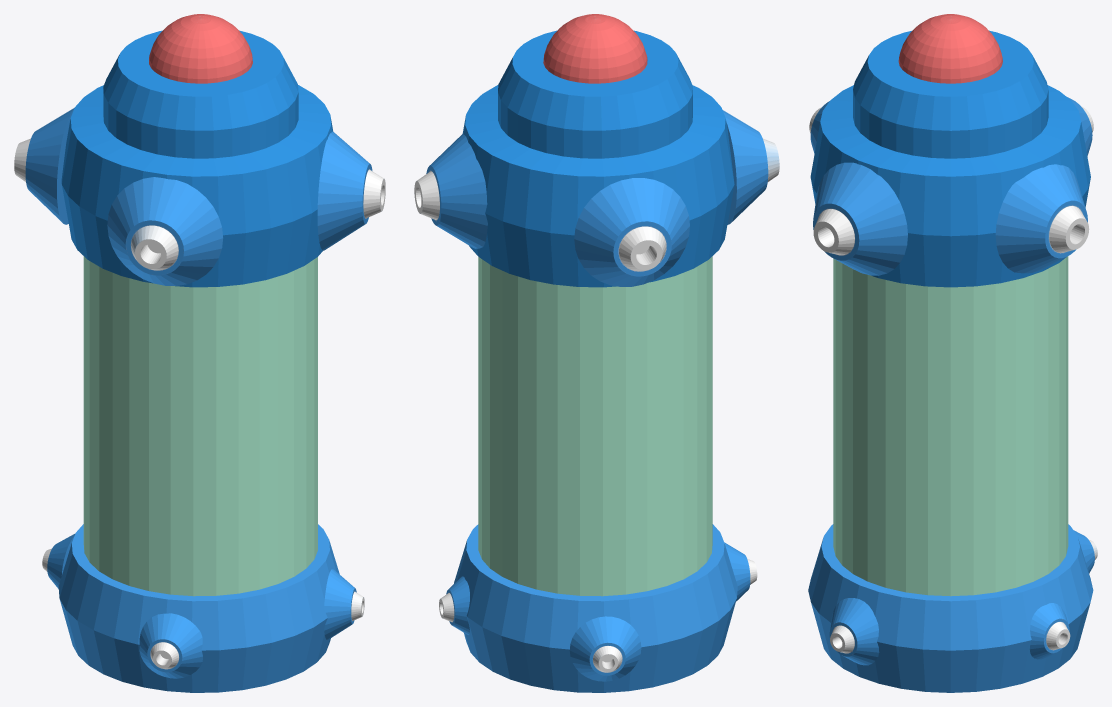
File: Itembox.fbx
3 views of the same model, side by side, from view 1: azimuth 30°, elevation 25°; view 2: azimuth 150°, elevation 25°; view 3: azimuth 270°, elevation 25° (orthographic).
Visible parts, largest first — view 1: Cylinder, Topo, Base, Destalhe 3, Sphere, Destalhe 2, Destalhe 4, Destalhe 3.001, Destalhe 2.001, Destalhe 4.001; view 2: Cylinder, Topo, Base, Destalhe 4, Sphere, Destalhe 1, Destalhe 4.001, Destalhe 3, Destalhe 1.001, Destalhe 3.001; view 3: Cylinder, Topo, Base, Destalhe 2, Destalhe 1, Sphere, Destalhe 2.001, Destalhe 1.001, Destalhe 4, Destalhe 4.001.
Boxes of the visible parts, x1=… form: Cylinder: x1=83, y1=256, x2=317, y2=596; Topo: x1=61, y1=30, x2=333, y2=287; Base: x1=58, y1=524, x2=339, y2=692; Destalhe 3: x1=107, y1=177, x2=223, y2=285; Sphere: x1=149, y1=14, x2=252, y2=83; Destalhe 2: x1=317, y1=131, x2=385, y2=250; Destalhe 4: x1=14, y1=108, x2=74, y2=224; Destalhe 3.001: x1=139, y1=613, x2=202, y2=678; Destalhe 2.001: x1=324, y1=569, x2=364, y2=640; Destalhe 4.001: x1=42, y1=533, x2=75, y2=588; Cylinder: x1=478, y1=256, x2=712, y2=596; Topo: x1=462, y1=30, x2=734, y2=287; Base: x1=454, y1=524, x2=737, y2=692; Destalhe 4: x1=574, y1=178, x2=689, y2=286; Sphere: x1=543, y1=14, x2=647, y2=83; Destalhe 1: x1=414, y1=133, x2=487, y2=248; Destalhe 4.001: x1=569, y1=616, x2=641, y2=681; Destalhe 3: x1=722, y1=110, x2=779, y2=224; Destalhe 1.001: x1=439, y1=576, x2=469, y2=634; Destalhe 3.001: x1=724, y1=542, x2=757, y2=601; Cylinder: x1=833, y1=256, x2=1068, y2=596; Topo: x1=810, y1=30, x2=1090, y2=287; Base: x1=808, y1=524, x2=1093, y2=692; Destalhe 2: x1=813, y1=162, x2=907, y2=275; Destalhe 1: x1=995, y1=164, x2=1089, y2=273; Sphere: x1=898, y1=14, x2=1002, y2=83; Destalhe 2.001: x1=829, y1=598, x2=879, y2=665; Destalhe 1.001: x1=1029, y1=603, x2=1070, y2=659; Destalhe 4: x1=1067, y1=97, x2=1093, y2=156; Destalhe 4.001: x1=1074, y1=530, x2=1097, y2=573.
Size of the model in its own units: 219 by 508 by 215.
12 materials, 12 textured.
